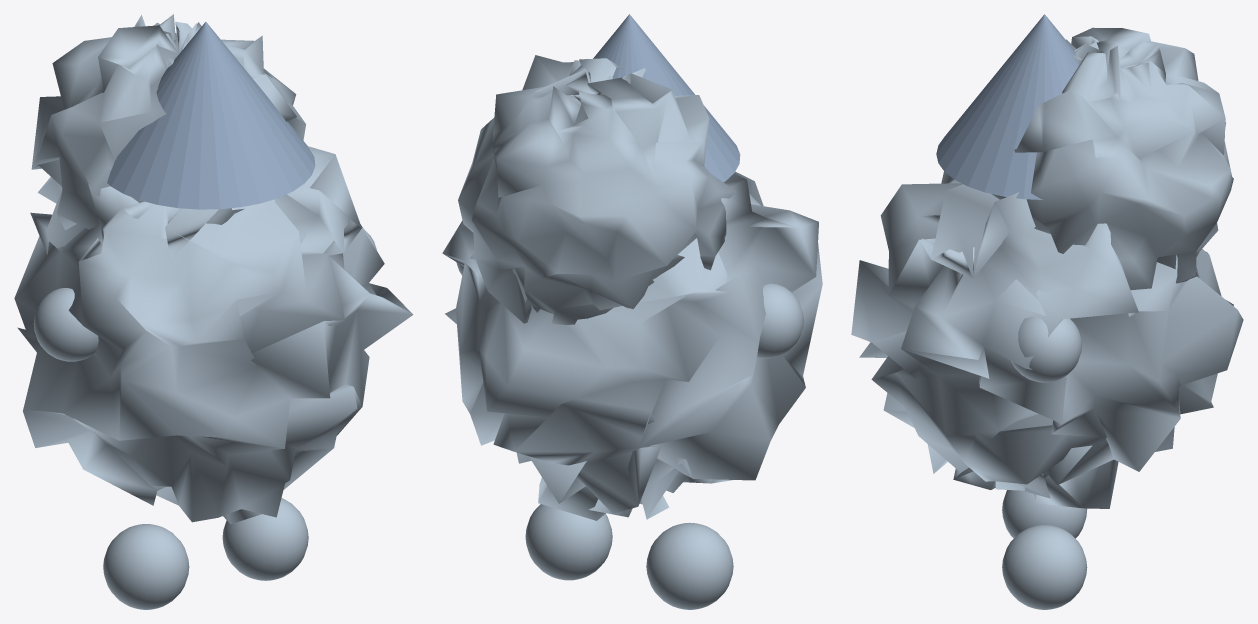
File: clay_cat_shark.glb
3 views of the same model, side by side, from view 1: azimuth 30°, elevation 25°; view 2: azimuth 150°, elevation 25°; view 3: azimuth 270°, elevation 25° (orthographic). The views are drawn at different scales.
Parts seen in each view (by area): view 1: fin; view 2: fin; view 3: fin.
Part boxes in pixels (left/top/right/bottom): fin: left=14, top=14, right=413, bottom=609; fin: left=442, top=14, right=822, bottom=609; fin: left=851, top=14, right=1243, bottom=609.
Size of the model in its own units: 1.24 by 2.01 by 1.27.
